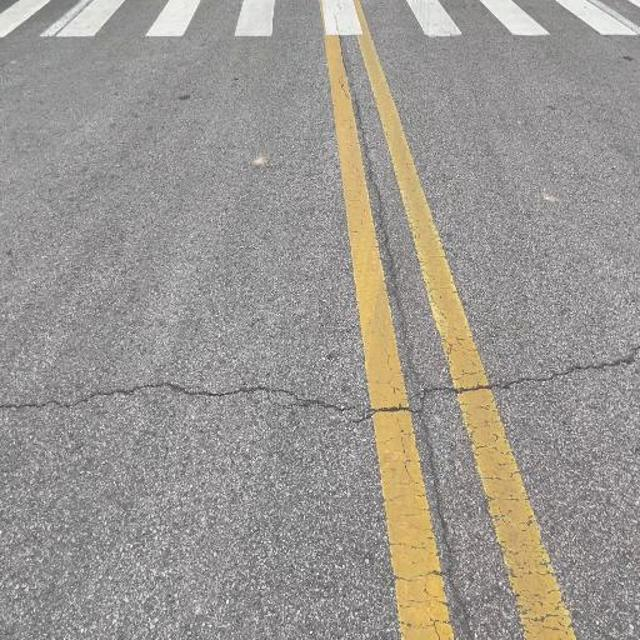Melintang: (0, 343, 640, 433)
